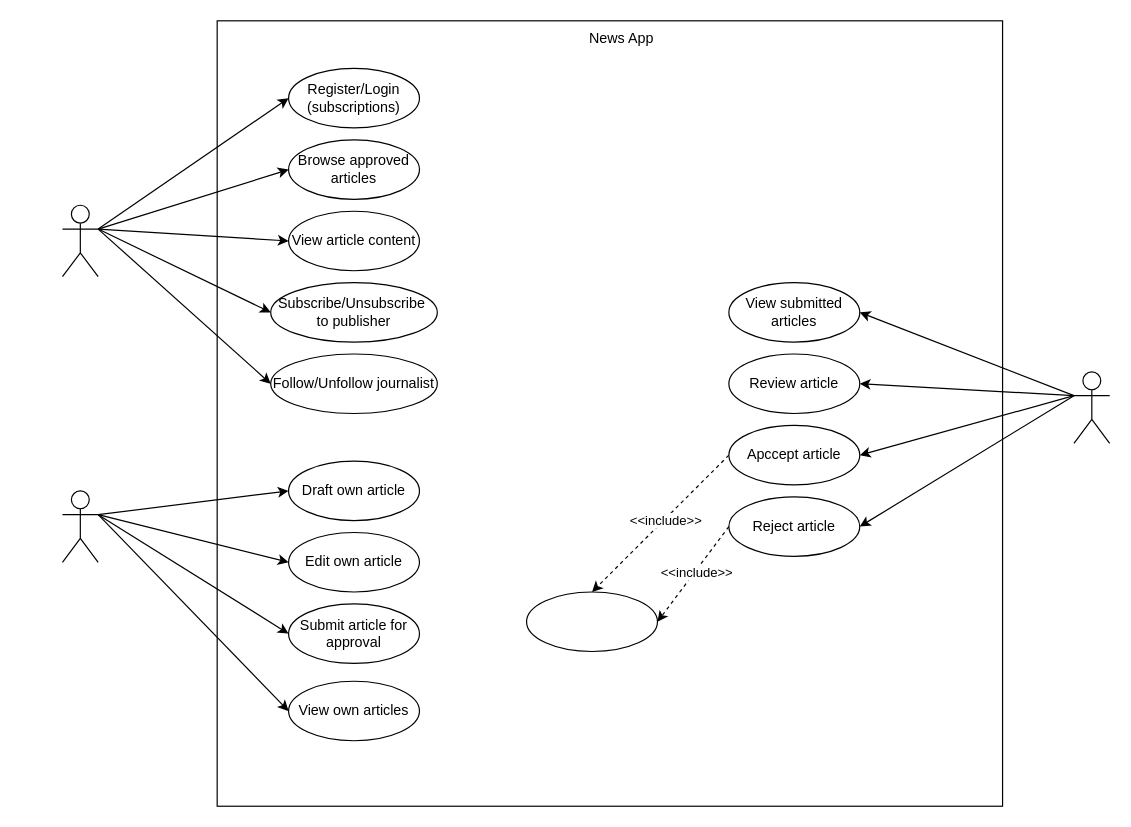
Image size: 1131x827. Some labels were removed from this diagram. Each missing label, with the centre of its shape:
"Editor" goes at (x=1091, y=407).
"Journalist/Writer" goes at (x=79, y=526).
"Notify writer via email" goes at (x=591, y=621).
"Reader/Subscriber" goes at (x=79, y=240).
